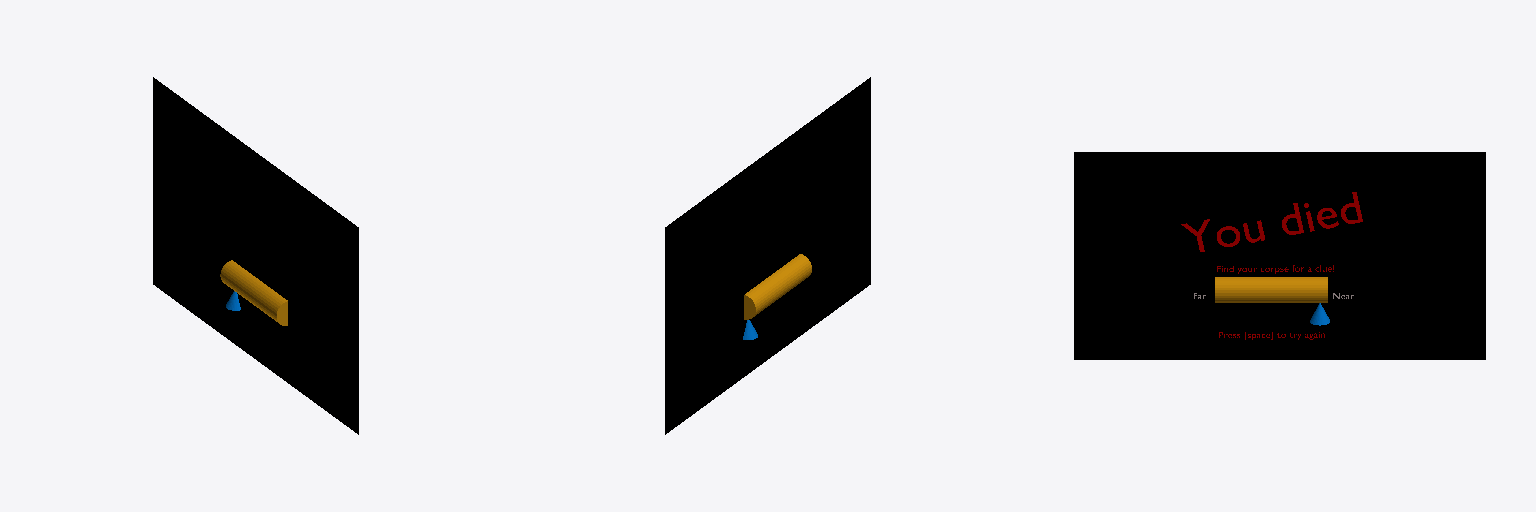
Rendered from DeathScreen.obj.
The picture shows the model from 3 angles: view 1: azimuth 30°, elevation 25°; view 2: azimuth 150°, elevation 25°; view 3: azimuth 270°, elevation 25°; orthographic projection.
Visible parts, largest first — view 1: Plane, Cylinder; view 2: Plane, Cylinder; view 3: Plane, Cylinder, Text.
Part boxes in pixels (x1,y1,x2,y2): Plane: (153, 77, 358, 434); Cylinder: (220, 260, 287, 325); Plane: (665, 77, 870, 434); Cylinder: (744, 254, 811, 319); Plane: (1074, 152, 1485, 359); Cylinder: (1215, 277, 1327, 302); Text: (1181, 192, 1362, 251).
Bounding box in the file's own units: 0.2384 × 2 × 3.59.